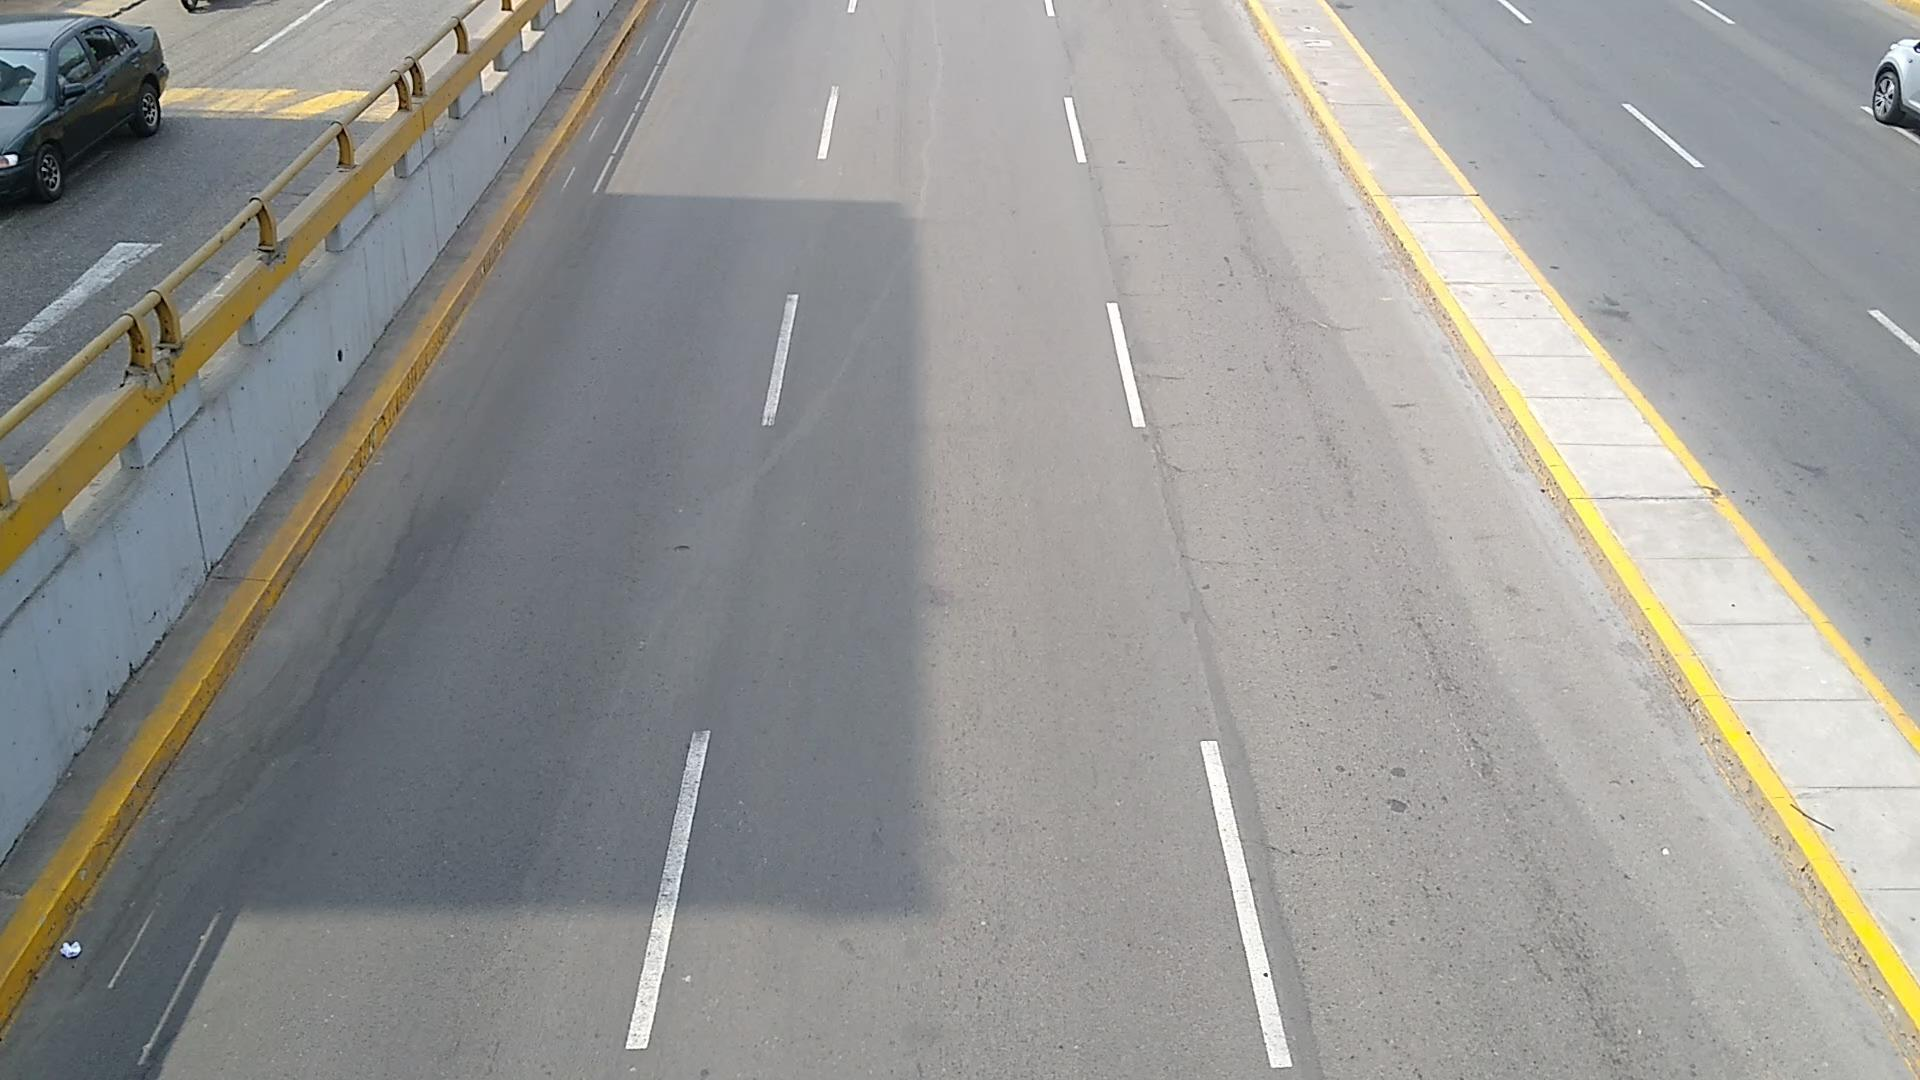car: (0, 15, 169, 202)
